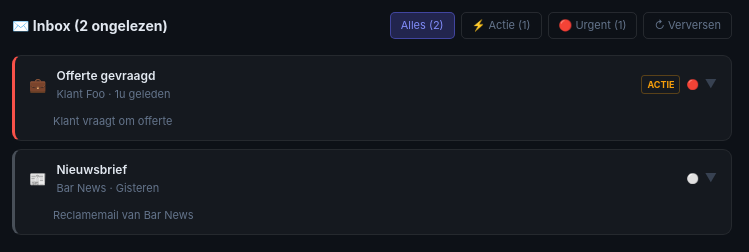
Test case: MailTab › filters to actie-required mails only
Expected: the text "Offerte gevraagd" is shown, [56,68,155,82]
Click the button "⚡ Actie (1)": (501, 25) [461,12,542,38]
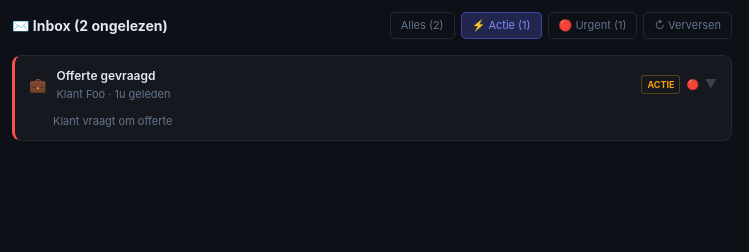
Expected: the text "Offerte gevraagd" is shown, [56,68,155,82]
Expected: the text "Nieuwsbrief" is gone
